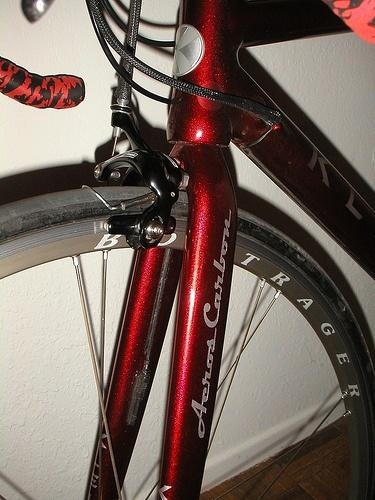bicycle: (4, 4, 374, 499)
